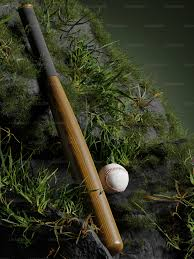baseball bat: (14, 1, 125, 255)
